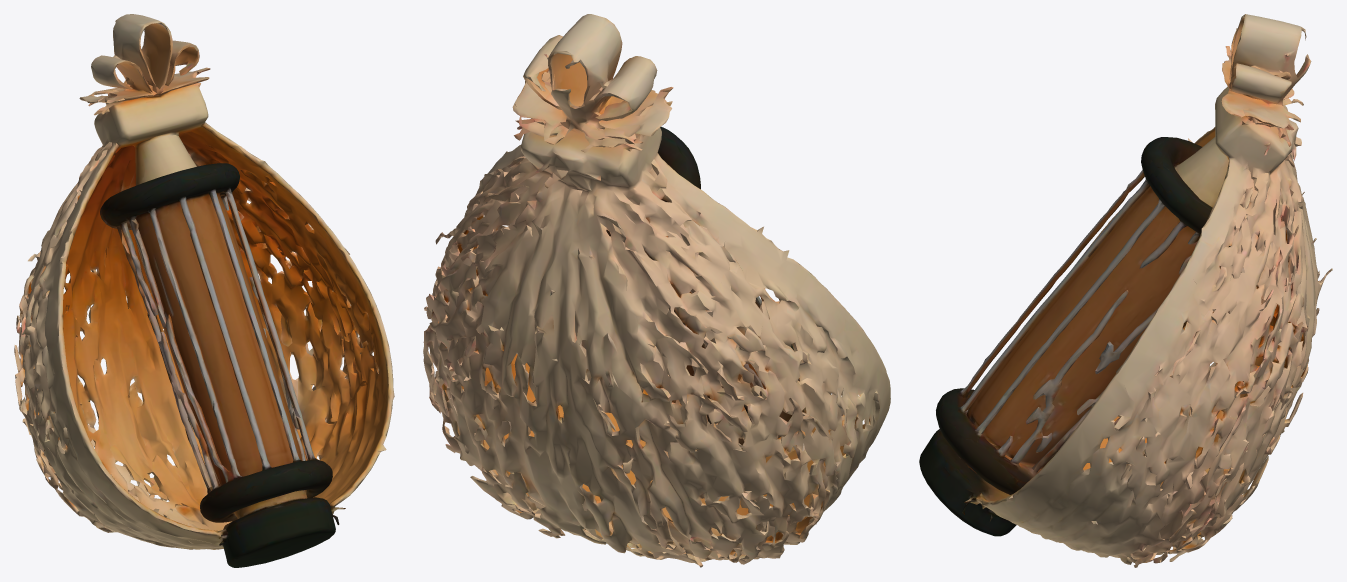
The model's file is sasando.glb.
3 renders of one model, left to right at view 1: azimuth 30°, elevation 25°; view 2: azimuth 150°, elevation 25°; view 3: azimuth 270°, elevation 25°, orthographic. The views are drawn at different scales.
Parts seen in each view (by area): view 1: Object_2; view 2: Object_2; view 3: Object_2.
Boxes of the visible parts, bbox=[...] form: Object_2: bbox=[14, 14, 394, 567]; Object_2: bbox=[423, 14, 890, 567]; Object_2: bbox=[919, 14, 1332, 567].
Size of the model in its own units: 0.7744 by 1.06 by 0.7673.
Materials: 1 (1 with a texture image).
